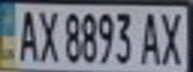3: (112, 9, 139, 65)
8: (60, 8, 81, 63), (78, 8, 96, 64)
9: (97, 9, 118, 64)
A: (12, 6, 42, 63), (136, 8, 163, 66)
X: (157, 8, 190, 66), (33, 7, 60, 63)
